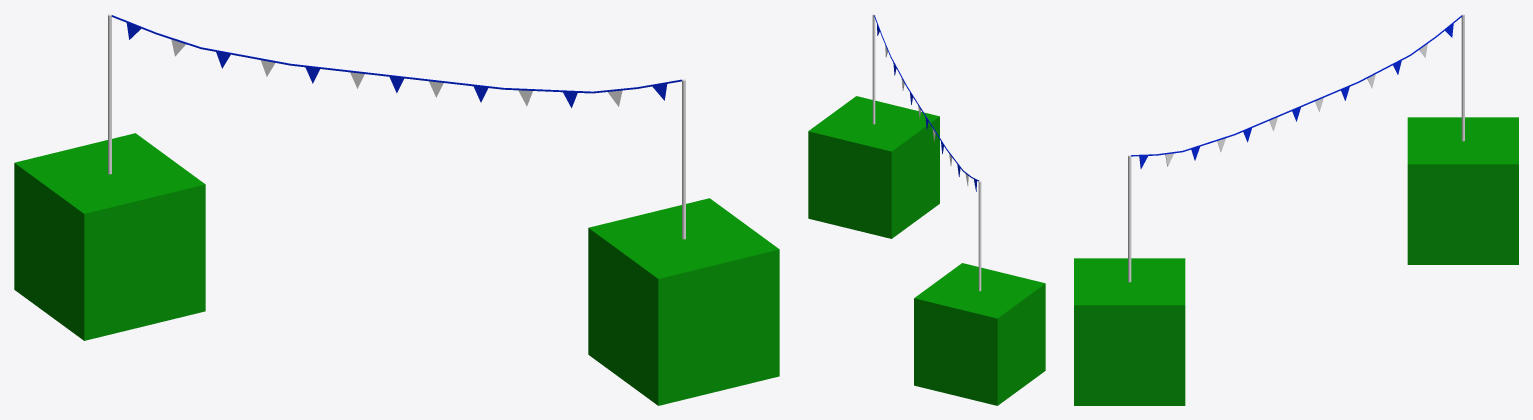
File: Flags45.obj
3 views of the same model, side by side, from view 1: azimuth 30°, elevation 25°; view 2: azimuth 150°, elevation 25°; view 3: azimuth 270°, elevation 25° (orthographic). The views are drawn at different scales.
Visible parts, largest first — view 1: Cube_Cube_Material.001, Cube_Cube_Material.006, Cube_Cube_Material.002; view 2: Cube_Cube_Material.001, Cube_Cube_Material.002, Cube_Cube_Material.006; view 3: Cube_Cube_Material.001, Cube_Cube_Material.002, Cube_Cube_Material.006.
Boxes of the visible parts, <box> form: Cube_Cube_Material.001: <box>14,133,779,405</box>; Cube_Cube_Material.006: <box>111,15,681,107</box>; Cube_Cube_Material.002: <box>108,14,685,239</box>; Cube_Cube_Material.001: <box>808,96,1045,405</box>; Cube_Cube_Material.002: <box>872,14,981,291</box>; Cube_Cube_Material.006: <box>874,15,979,191</box>; Cube_Cube_Material.001: <box>1074,117,1518,405</box>; Cube_Cube_Material.002: <box>1128,14,1464,282</box>; Cube_Cube_Material.006: <box>1131,15,1462,168</box>.
Size of the model in its own units: 8 by 4.5 by 8.
